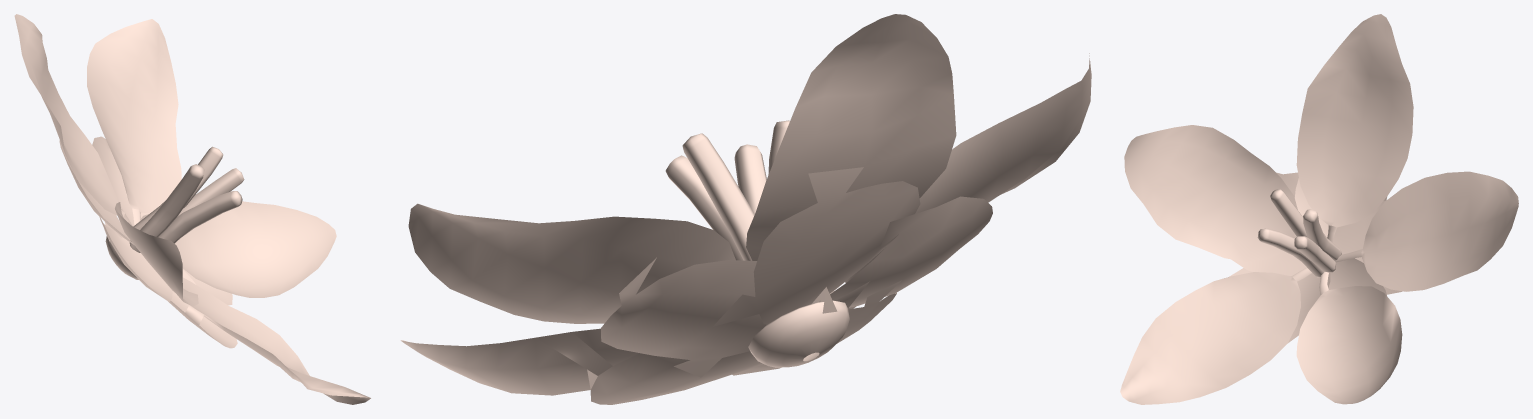
The model's file is sennaSingle.fbx.
3 renders of one model, left to right at view 1: azimuth 30°, elevation 25°; view 2: azimuth 150°, elevation 25°; view 3: azimuth 270°, elevation 25°, orthographic. The views are drawn at different scales.
Visible parts, largest first — view 1: petal1; view 2: petal1; view 3: petal1.
Boxes of the visible parts, x1=… form: petal1: x1=14, y1=14, x2=370, y2=404; petal1: x1=400, y1=14, x2=1091, y2=404; petal1: x1=1120, y1=14, x2=1518, y2=404.
Bounding box in the file's own units: 66.25 × 67.75 × 80.38.
